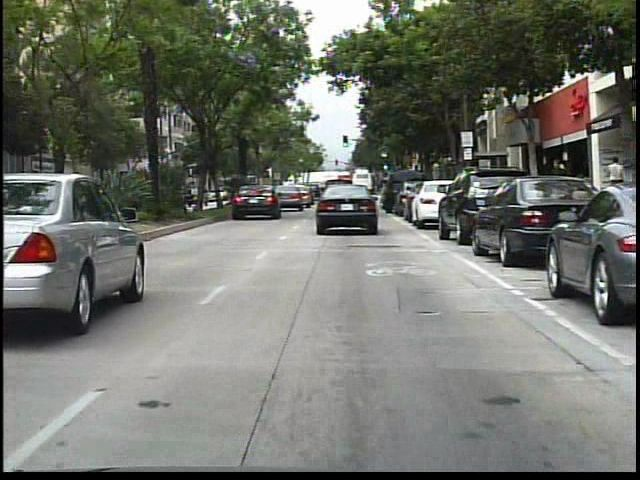person: (546, 158, 574, 219), (543, 156, 568, 223), (603, 151, 627, 218)
